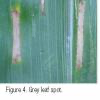Corn Gray leaf spot: (0, 1, 97, 83)
